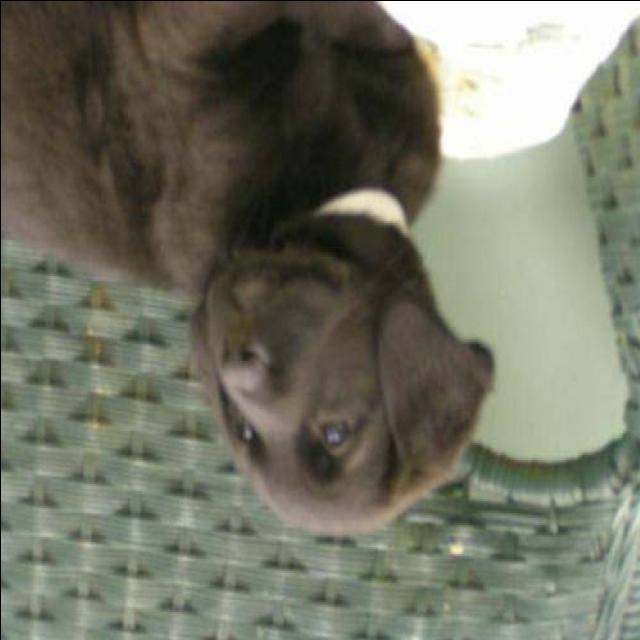dog: (0, 0, 508, 546)
